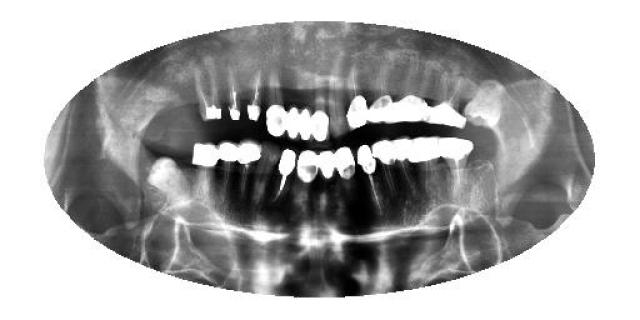Fillings: (392, 65, 428, 124), (260, 61, 284, 140), (191, 142, 219, 202), (306, 81, 329, 141), (284, 74, 300, 142), (298, 80, 312, 144), (296, 149, 319, 186), (335, 146, 355, 182), (319, 147, 336, 185)
Implant: (425, 70, 466, 130), (410, 136, 441, 196), (391, 136, 420, 199), (356, 144, 382, 214), (195, 62, 224, 121), (441, 138, 474, 188), (372, 138, 398, 200), (236, 140, 262, 201), (345, 65, 369, 131), (368, 67, 393, 126), (214, 140, 236, 204), (276, 150, 298, 208), (225, 65, 244, 124), (246, 64, 262, 122)
